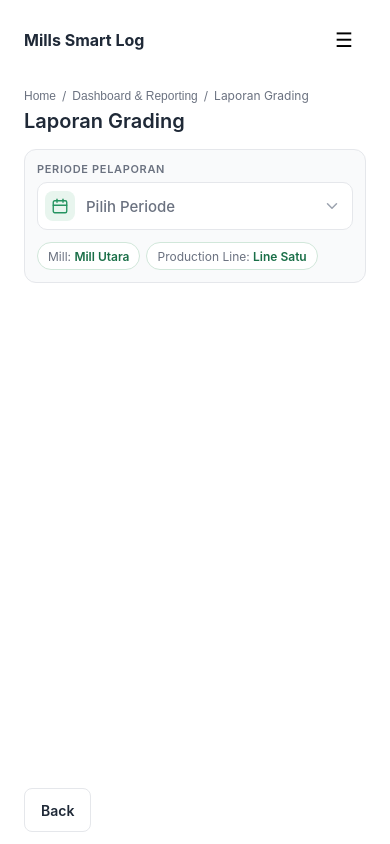
Test case: null bukan nol › netto null dirender sebagai keterangan bergaya non-angka
Select "Grading — Periode September 2026" in the dropdown with test id "period-select" at point(195, 206), box [37,182,353,230]
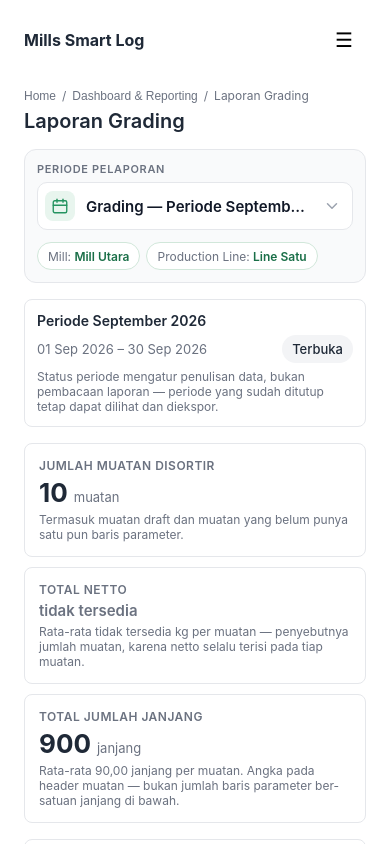
Expected: the element with test id "kpi-netto-total" does not show "0,00"
Expected: the text with test id "kpi-netto-total" reads "tidak tersedia", [39,601,138,620]
